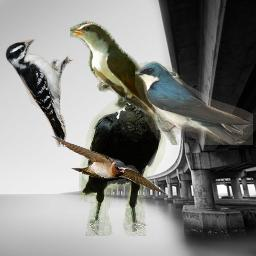Crow: (79, 66, 183, 236)
Cuckoo: (70, 20, 179, 145)
Swallow: (135, 61, 253, 145), (49, 133, 170, 195)
Woodpecker: (5, 39, 74, 147)
